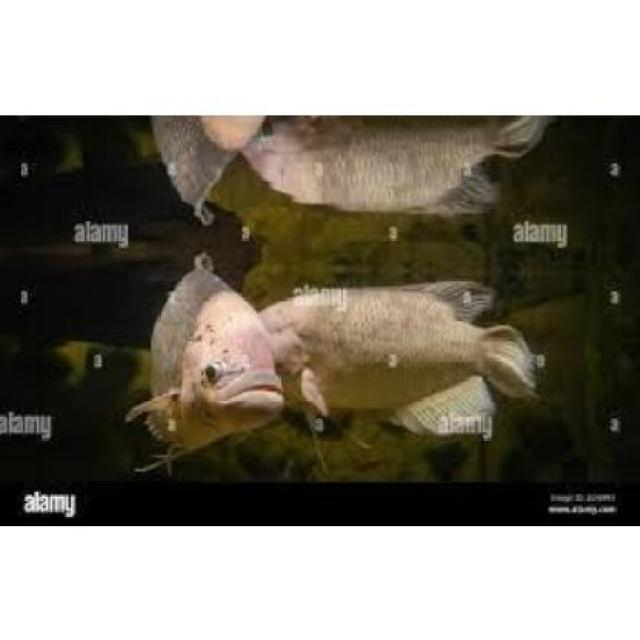gurame: (256, 282, 532, 420), (141, 268, 277, 461)
